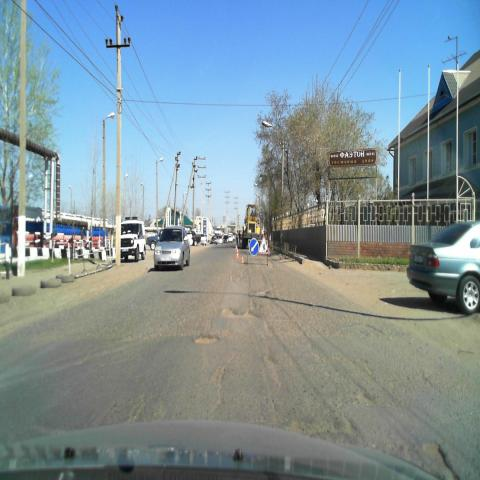1_25: (258, 236, 270, 254)
4_2_2: (249, 237, 259, 256)
